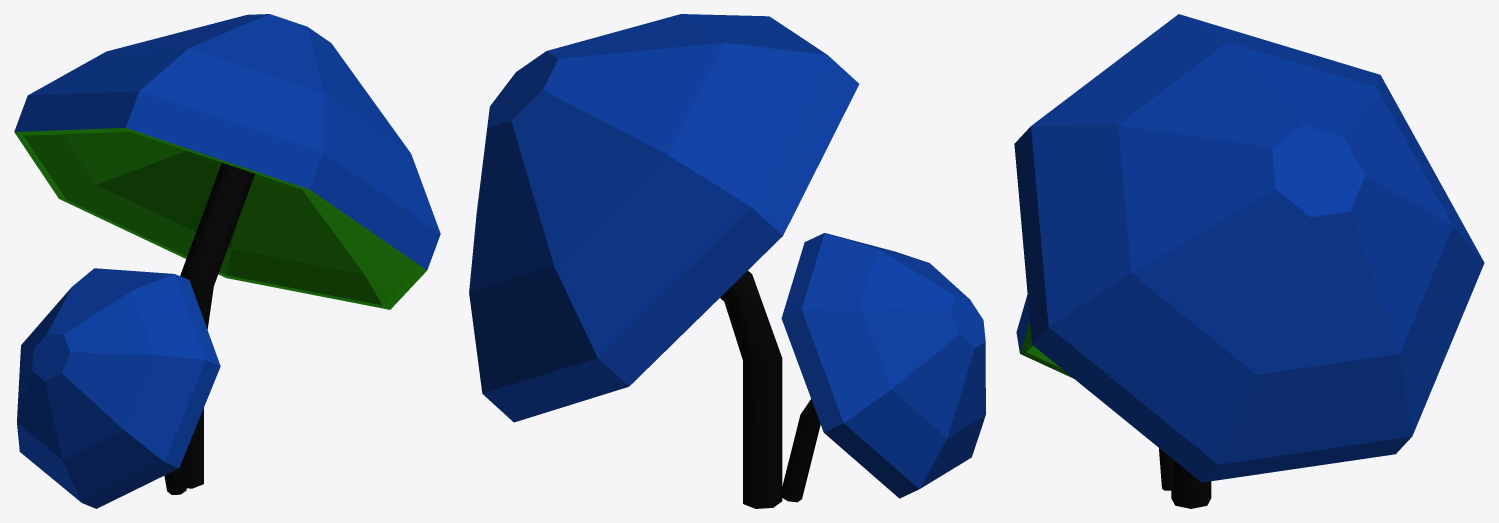
The model's file is Mushroom02_BH.fbx.
The picture shows the model from 3 angles, left to right: view 1: azimuth 30°, elevation 25°; view 2: azimuth 150°, elevation 25°; view 3: azimuth 270°, elevation 25°; orthographic projection. The views are drawn at different scales.
Visible parts, largest first — view 1: Mushroom02_BH; view 2: Mushroom02_BH; view 3: Mushroom02_BH.
Part boxes in pixels (left/top/right/bottom): Mushroom02_BH: left=14, top=14, right=440, bottom=508; Mushroom02_BH: left=469, top=14, right=985, bottom=508; Mushroom02_BH: left=1014, top=14, right=1484, bottom=508.
Bounding box in the file's own units: 34.1 × 33.83 × 30.81.
